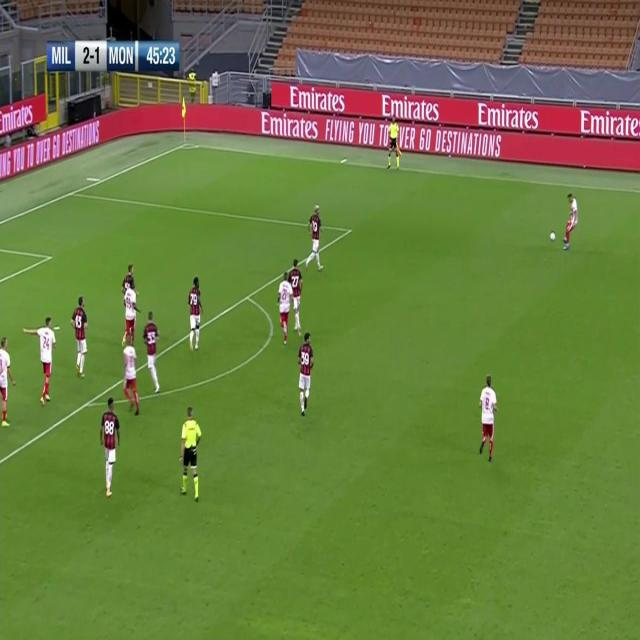ball: (548, 228, 556, 242)
player: (24, 314, 59, 407), (178, 403, 202, 503), (100, 396, 122, 501), (476, 373, 498, 464), (70, 294, 89, 382), (143, 312, 163, 395), (296, 330, 314, 420), (304, 202, 325, 274), (0, 335, 15, 429), (122, 340, 140, 416), (187, 274, 203, 354), (122, 276, 140, 344), (276, 272, 292, 345), (561, 191, 579, 251), (290, 258, 304, 329), (385, 115, 401, 173), (122, 261, 138, 289)
